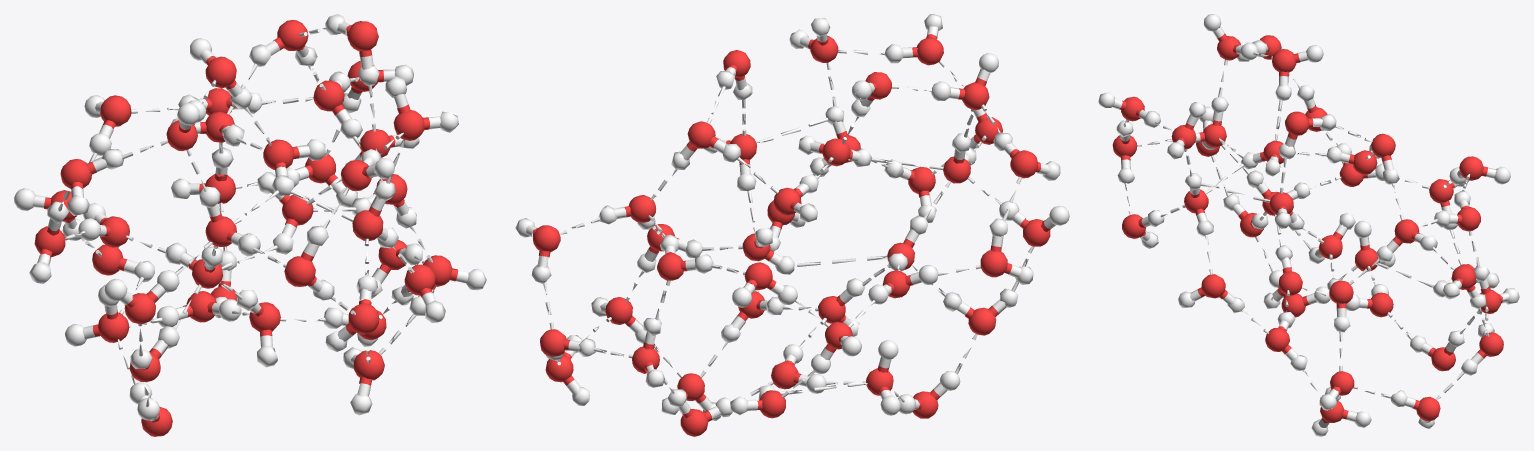
3 views of the same model, side by side, from view 1: azimuth 30°, elevation 25°; view 2: azimuth 150°, elevation 25°; view 3: azimuth 270°, elevation 25° (orthographic). The views are drawn at different scales.
Parts seen in each view (by area): view 1: waterl_0; view 2: waterl_0; view 3: waterl_0.
Part boxes in pixels (left/top/right/bottom): waterl_0: left=14, top=14, right=486, bottom=436; waterl_0: left=515, top=14, right=1069, bottom=436; waterl_0: left=1098, top=14, right=1519, bottom=436.
Size of the model in its own units: 13.24 by 11.07 by 12.87.
